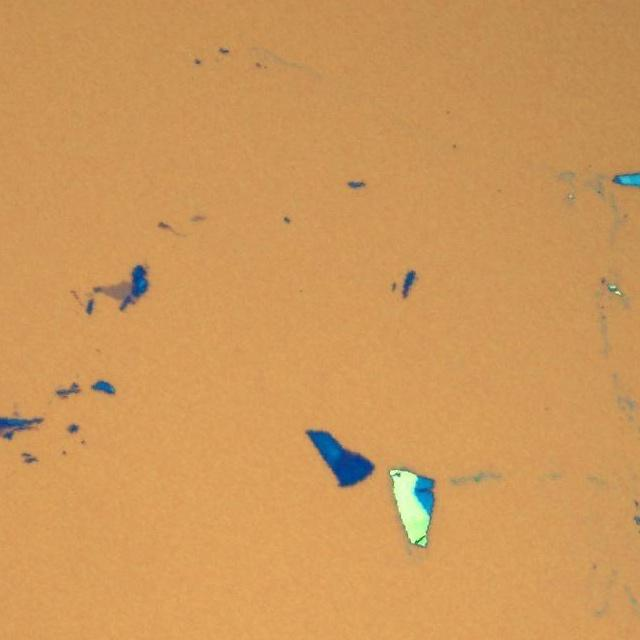monolayer-eWW4: (99, 280, 132, 300)
